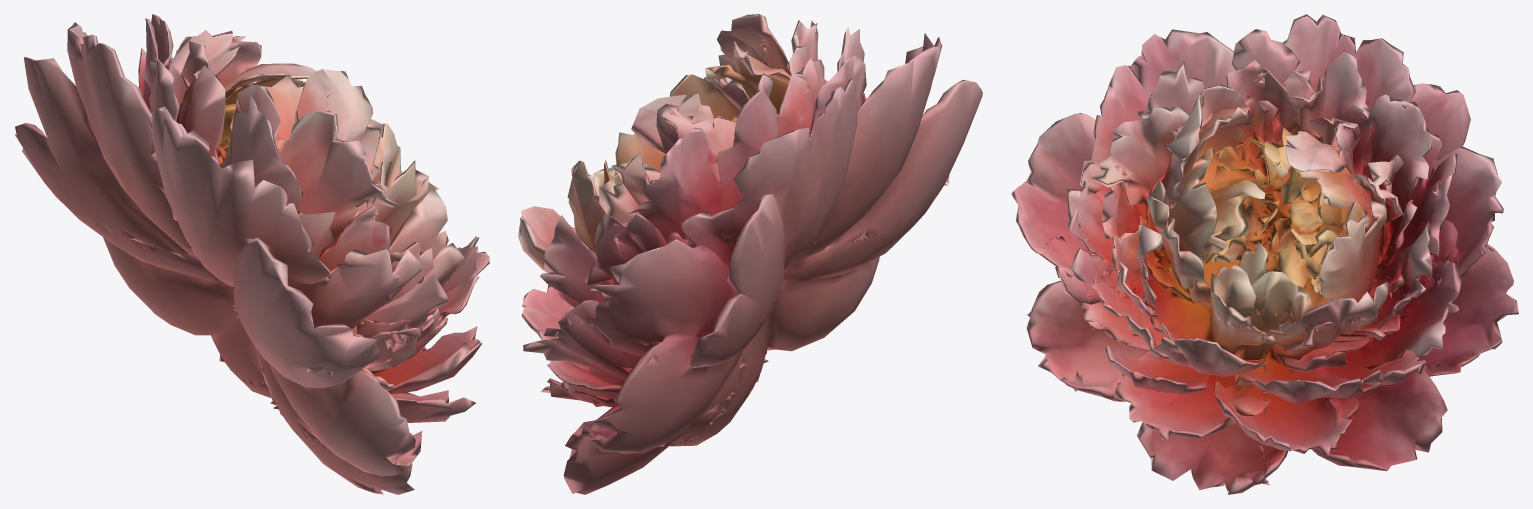
File: peony2.glb
3 renders of one model, left to right at view 1: azimuth 30°, elevation 25°; view 2: azimuth 150°, elevation 25°; view 3: azimuth 270°, elevation 25°, orthographic. The views are drawn at different scales.
Visible parts, largest first — view 1: tripo_node_6f496b17-2baf-4b2f-8bbd-502622d951ea; view 2: tripo_node_6f496b17-2baf-4b2f-8bbd-502622d951ea; view 3: tripo_node_6f496b17-2baf-4b2f-8bbd-502622d951ea.
Boxes of the visible parts, x1,y1,x2,y2 form: tripo_node_6f496b17-2baf-4b2f-8bbd-502622d951ea: (14, 14, 489, 494); tripo_node_6f496b17-2baf-4b2f-8bbd-502622d951ea: (518, 14, 982, 494); tripo_node_6f496b17-2baf-4b2f-8bbd-502622d951ea: (1011, 14, 1518, 494).
Size of the model in its own units: 0.6235 by 0.8205 by 0.9777.
1 material, 1 textured.
